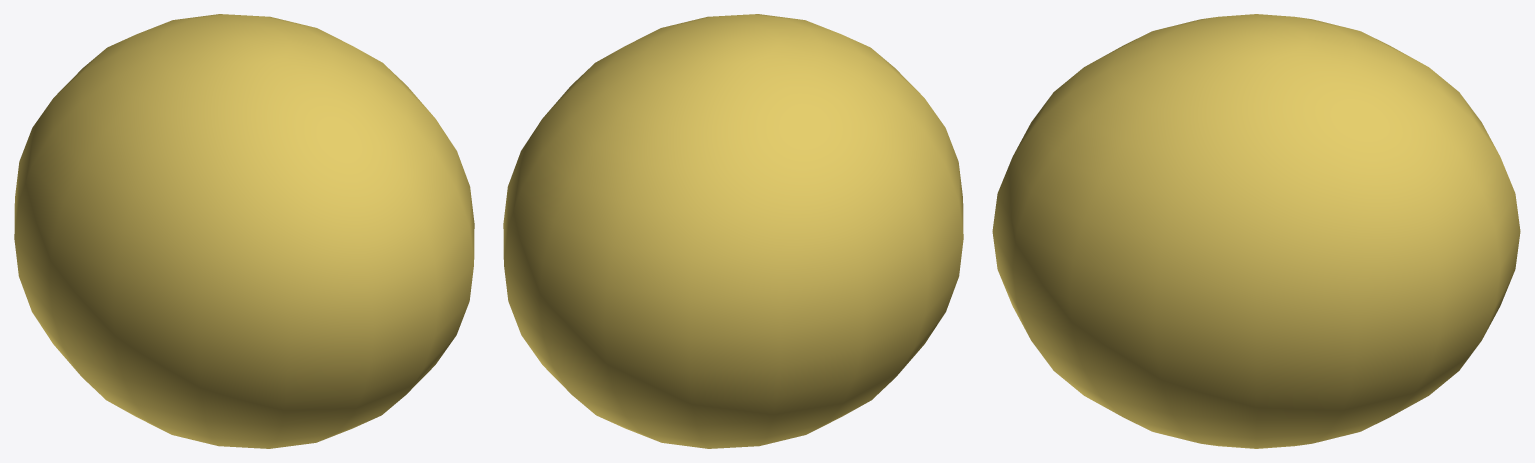
The model's file is Snake_Eye_Raw.fbx.
3 views of the same model, side by side, from view 1: azimuth 30°, elevation 25°; view 2: azimuth 150°, elevation 25°; view 3: azimuth 270°, elevation 25° (orthographic). The views are drawn at different scales.
Parts seen in each view (by area): view 1: pSphere1; view 2: pSphere1; view 3: pSphere1.
Part boxes in pixels (x1,y1,x2,y2): pSphere1: (14,14,474,448); pSphere1: (503,14,963,448); pSphere1: (992,14,1520,448).
Size of the model in its own units: 2 by 1.87 by 2.29.
